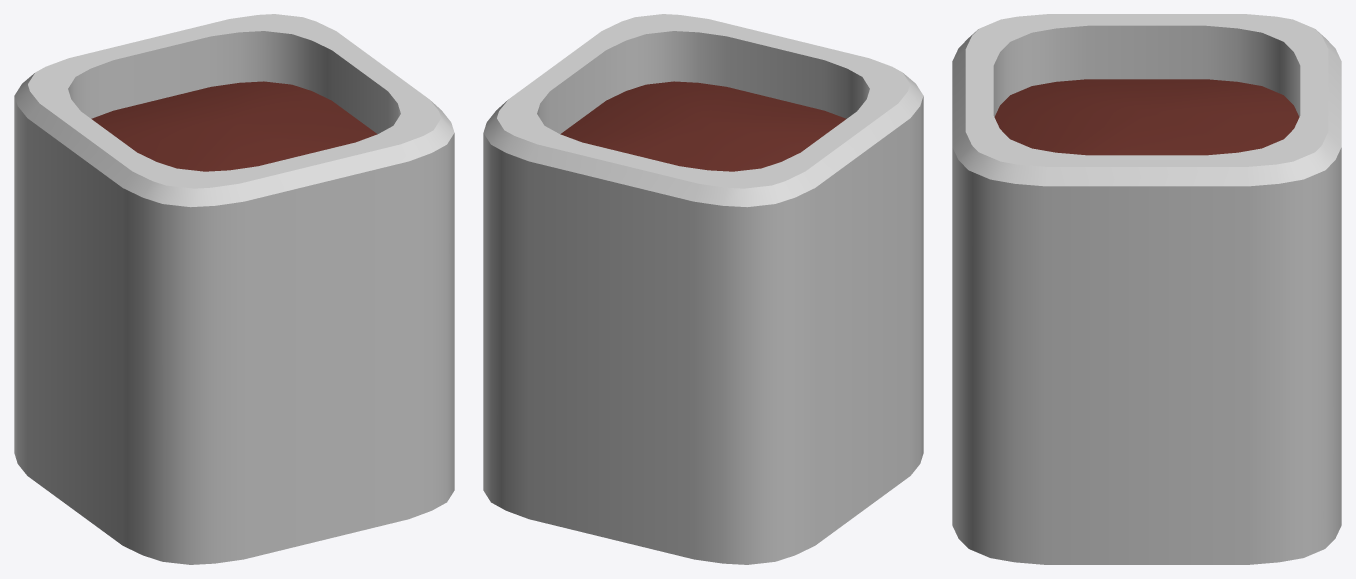
File: Plant Pot Destroyed C.fbx
3 renders of one model, left to right at view 1: azimuth 30°, elevation 25°; view 2: azimuth 150°, elevation 25°; view 3: azimuth 270°, elevation 25°, orthographic. The views are drawn at different scales.
Parts seen in each view (by area): view 1: Plant Destroyed C; view 2: Plant Destroyed C; view 3: Plant Destroyed C.
Part boxes in pixels (x1,y1,x2,y2): Plant Destroyed C: (14, 14, 454, 564); Plant Destroyed C: (483, 14, 923, 564); Plant Destroyed C: (952, 14, 1341, 564).
Size of the model in its own units: 0.9 by 1 by 0.9.
